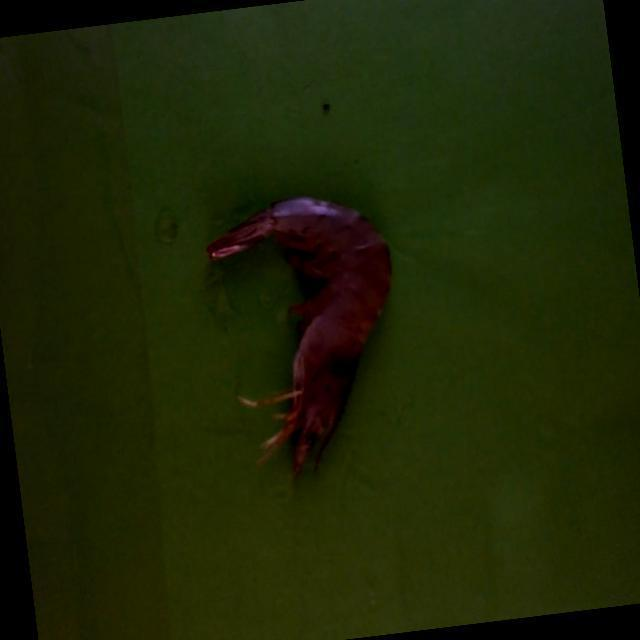shrimp: (207, 197, 389, 474)
